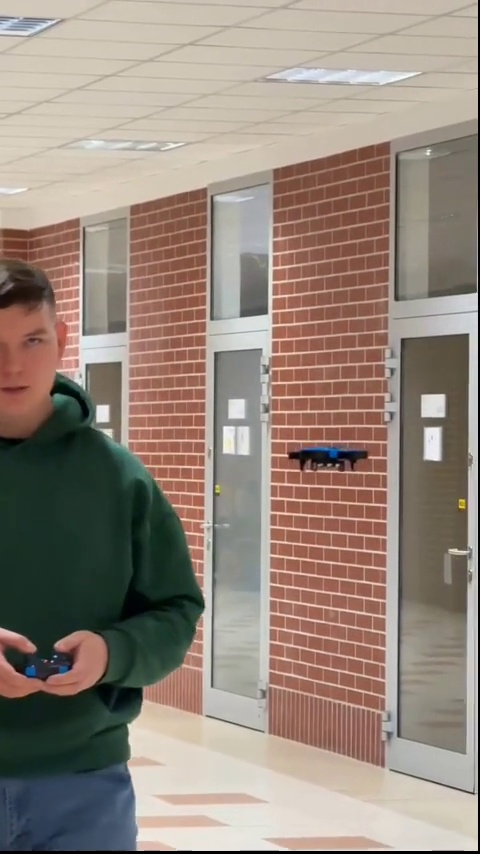drone: (291, 447, 373, 470)
no vest: (0, 252, 208, 854)
